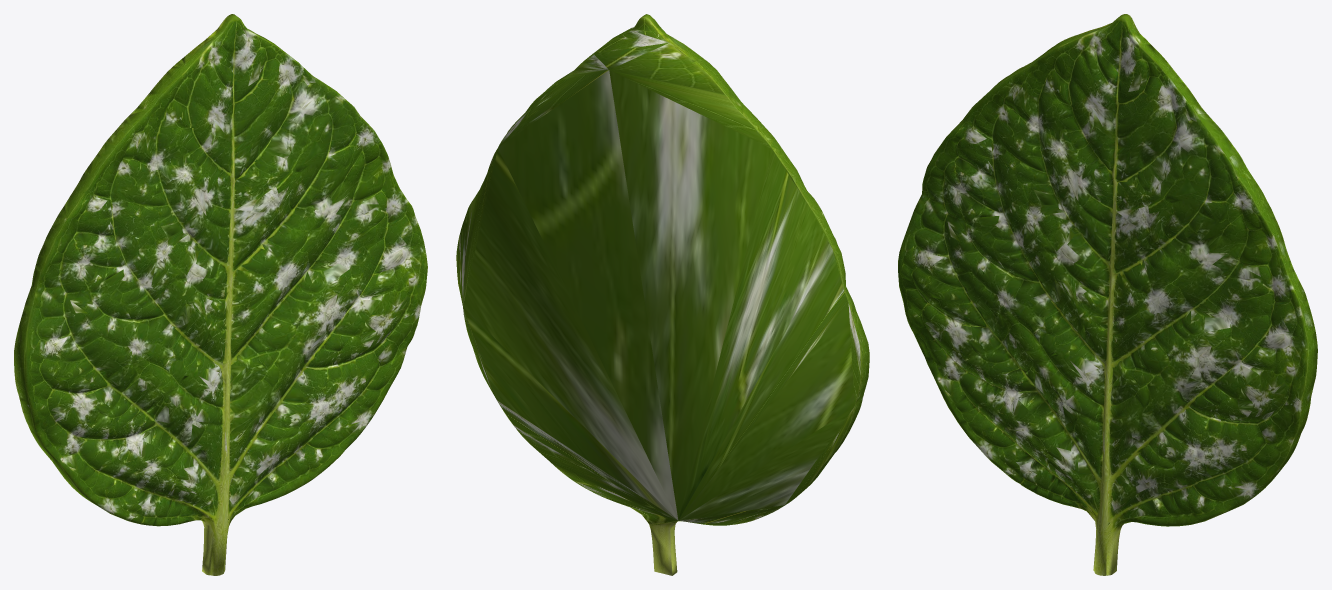
The model's file is soybean_mosaic_virus.glb.
3 renders of one model, left to right at view 1: azimuth 30°, elevation 25°; view 2: azimuth 150°, elevation 25°; view 3: azimuth 330°, elevation 25°, orthographic.
Visible parts, largest first — view 1: soybean_mosaic_virus; view 2: soybean_mosaic_virus; view 3: soybean_mosaic_virus.
Part boxes in pixels (x1,y1,x2,y2): soybean_mosaic_virus: (14, 14, 427, 575); soybean_mosaic_virus: (456, 14, 869, 575); soybean_mosaic_virus: (898, 14, 1317, 575).
Size of the model in its own units: 0.7688 by 0.9995 by 0.0465.
Materials: 1 (1 with a texture image).
